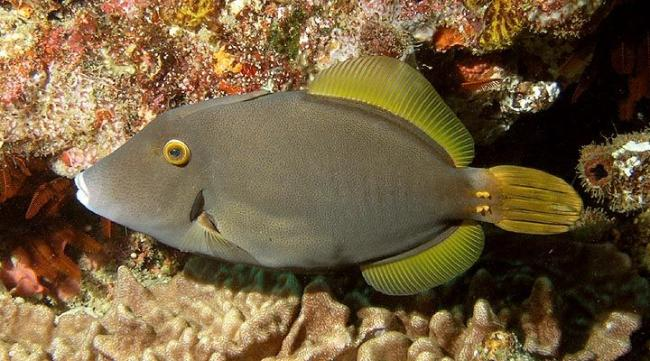fish: (73, 57, 584, 294)
